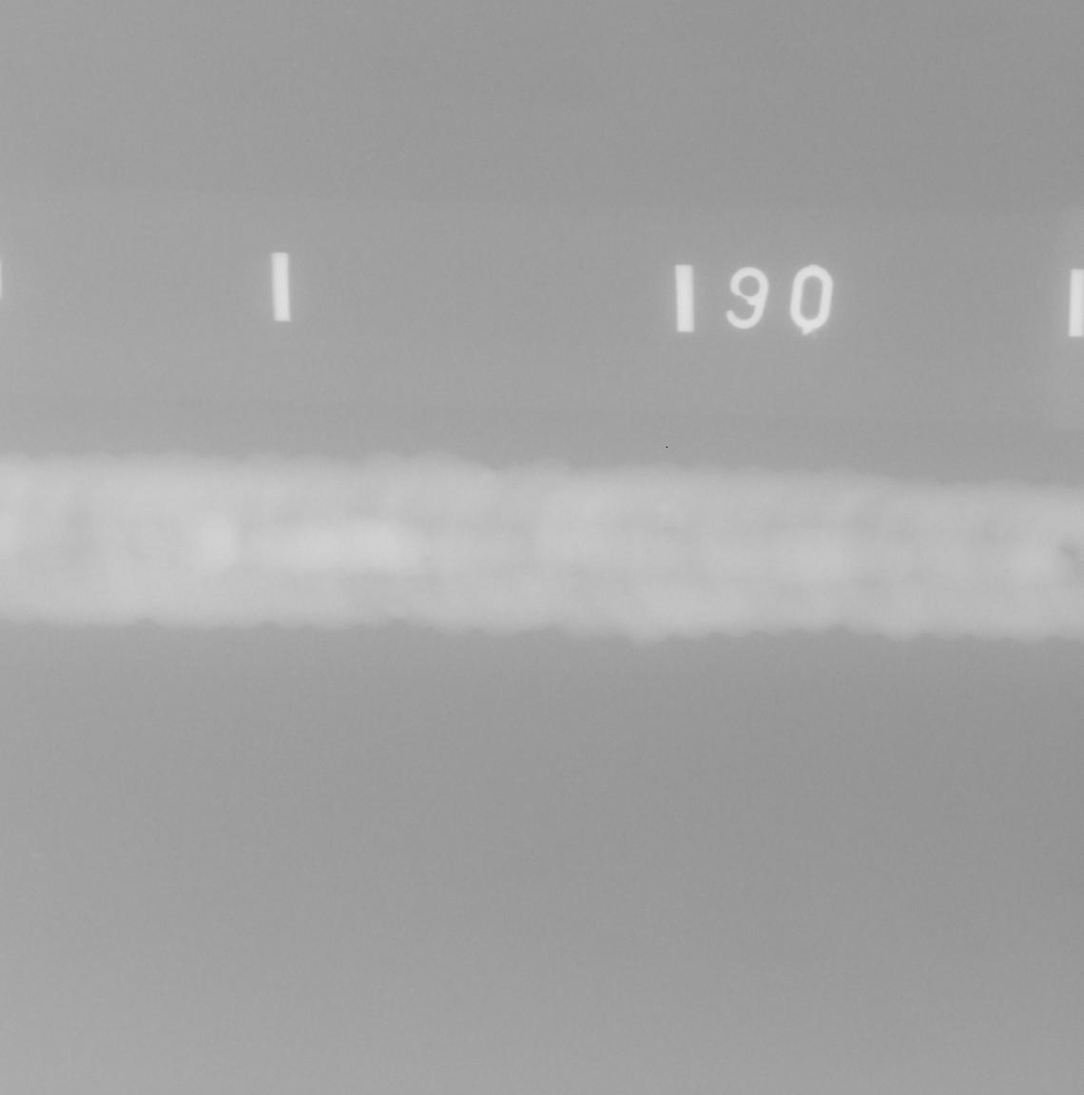Inclusion: (1062, 547, 1077, 558), (424, 555, 432, 566), (1077, 561, 1083, 564)
Pore/Porosity: (571, 588, 579, 594), (187, 567, 193, 572), (1004, 569, 1010, 573), (574, 571, 579, 575), (577, 599, 581, 603), (569, 574, 573, 578), (579, 569, 583, 573)
